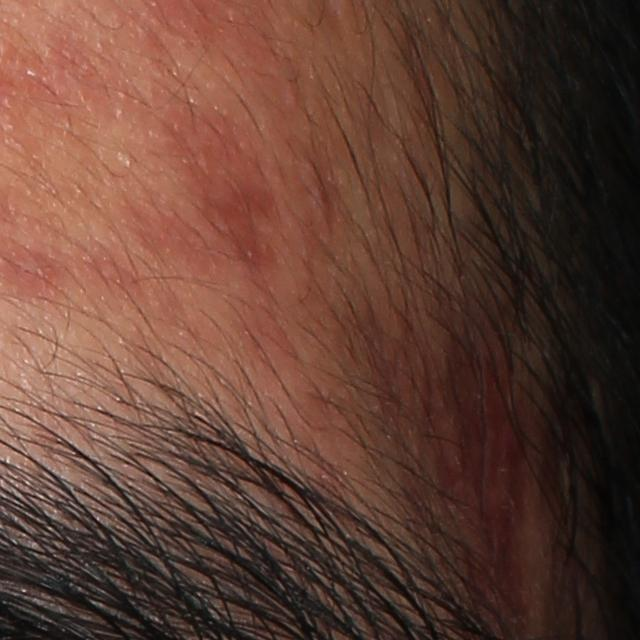atrophic_scar: (414, 343, 538, 595), (210, 165, 288, 279)
